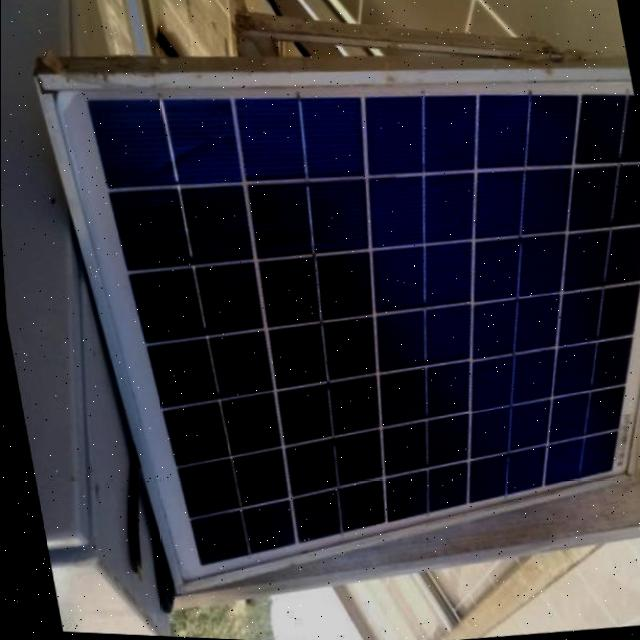Normal Solar Panel: (35, 14, 640, 619)
